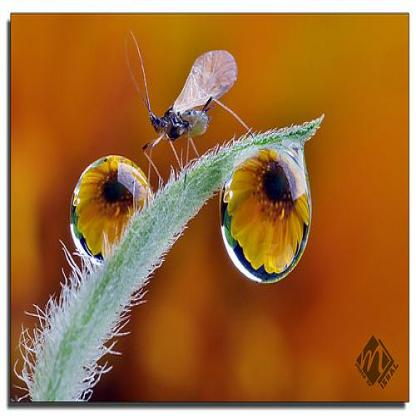aphid: (122, 45, 255, 167)
